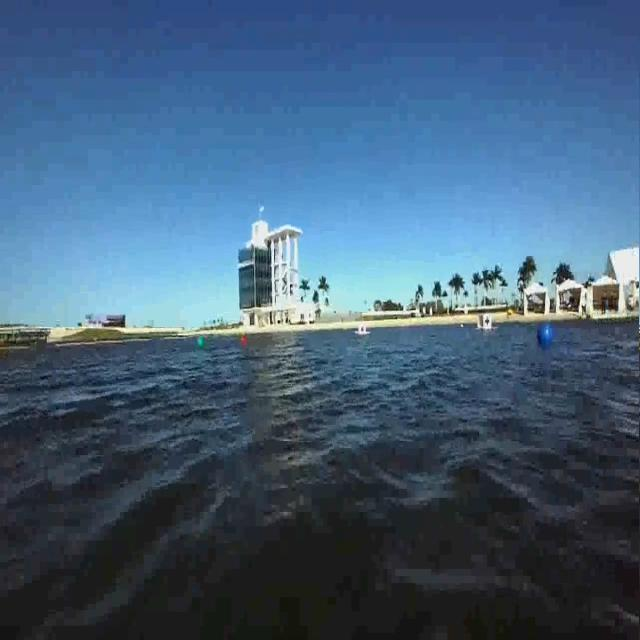blue-buoy: (532, 313, 557, 345)
